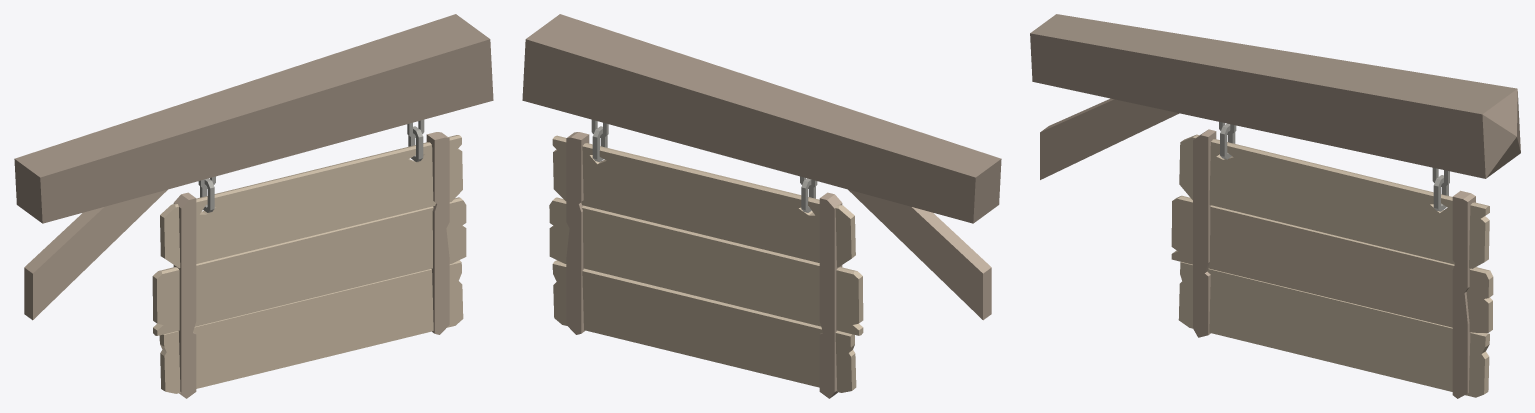
Rendered from Wall_Prop_Sign_1.glb.
3 views of the same model, side by side, from view 1: azimuth 30°, elevation 25°; view 2: azimuth 150°, elevation 25°; view 3: azimuth 330°, elevation 25° (orthographic). The views are drawn at different scales.
Parts seen in each view (by area): view 1: object7, object8, object13, object11, object10, object12, object4; view 2: object7, object8, object13, object11, object10, object12, object4; view 3: object7, object8, object13, object11, object10, object4, object12.
Boxes of the visible parts, x1=… form: object7: x1=14, y1=14, x2=493, y2=223; object8: x1=152, y1=197, x2=466, y2=335; object13: x1=160, y1=135, x2=462, y2=268; object11: x1=159, y1=260, x2=463, y2=393; object10: x1=24, y1=189, x2=167, y2=320; object12: x1=173, y1=192, x2=196, y2=398; object4: x1=426, y1=132, x2=449, y2=334; object7: x1=522, y1=14, x2=1001, y2=223; object8: x1=549, y1=197, x2=863, y2=335; object13: x1=552, y1=135, x2=855, y2=267; object11: x1=552, y1=260, x2=856, y2=392; object10: x1=848, y1=189, x2=991, y2=320; object12: x1=819, y1=192, x2=842, y2=398; object4: x1=566, y1=132, x2=589, y2=334; object7: x1=1030, y1=14, x2=1520, y2=178; object8: x1=1171, y1=195, x2=1493, y2=332; object13: x1=1179, y1=134, x2=1489, y2=268; object11: x1=1178, y1=262, x2=1489, y2=397; object10: x1=1040, y1=98, x2=1179, y2=179; object4: x1=1452, y1=190, x2=1475, y2=398; object12: x1=1193, y1=129, x2=1216, y2=337.
Bounding box in the file's own units: 1.55 × 0.9579 × 0.2.
